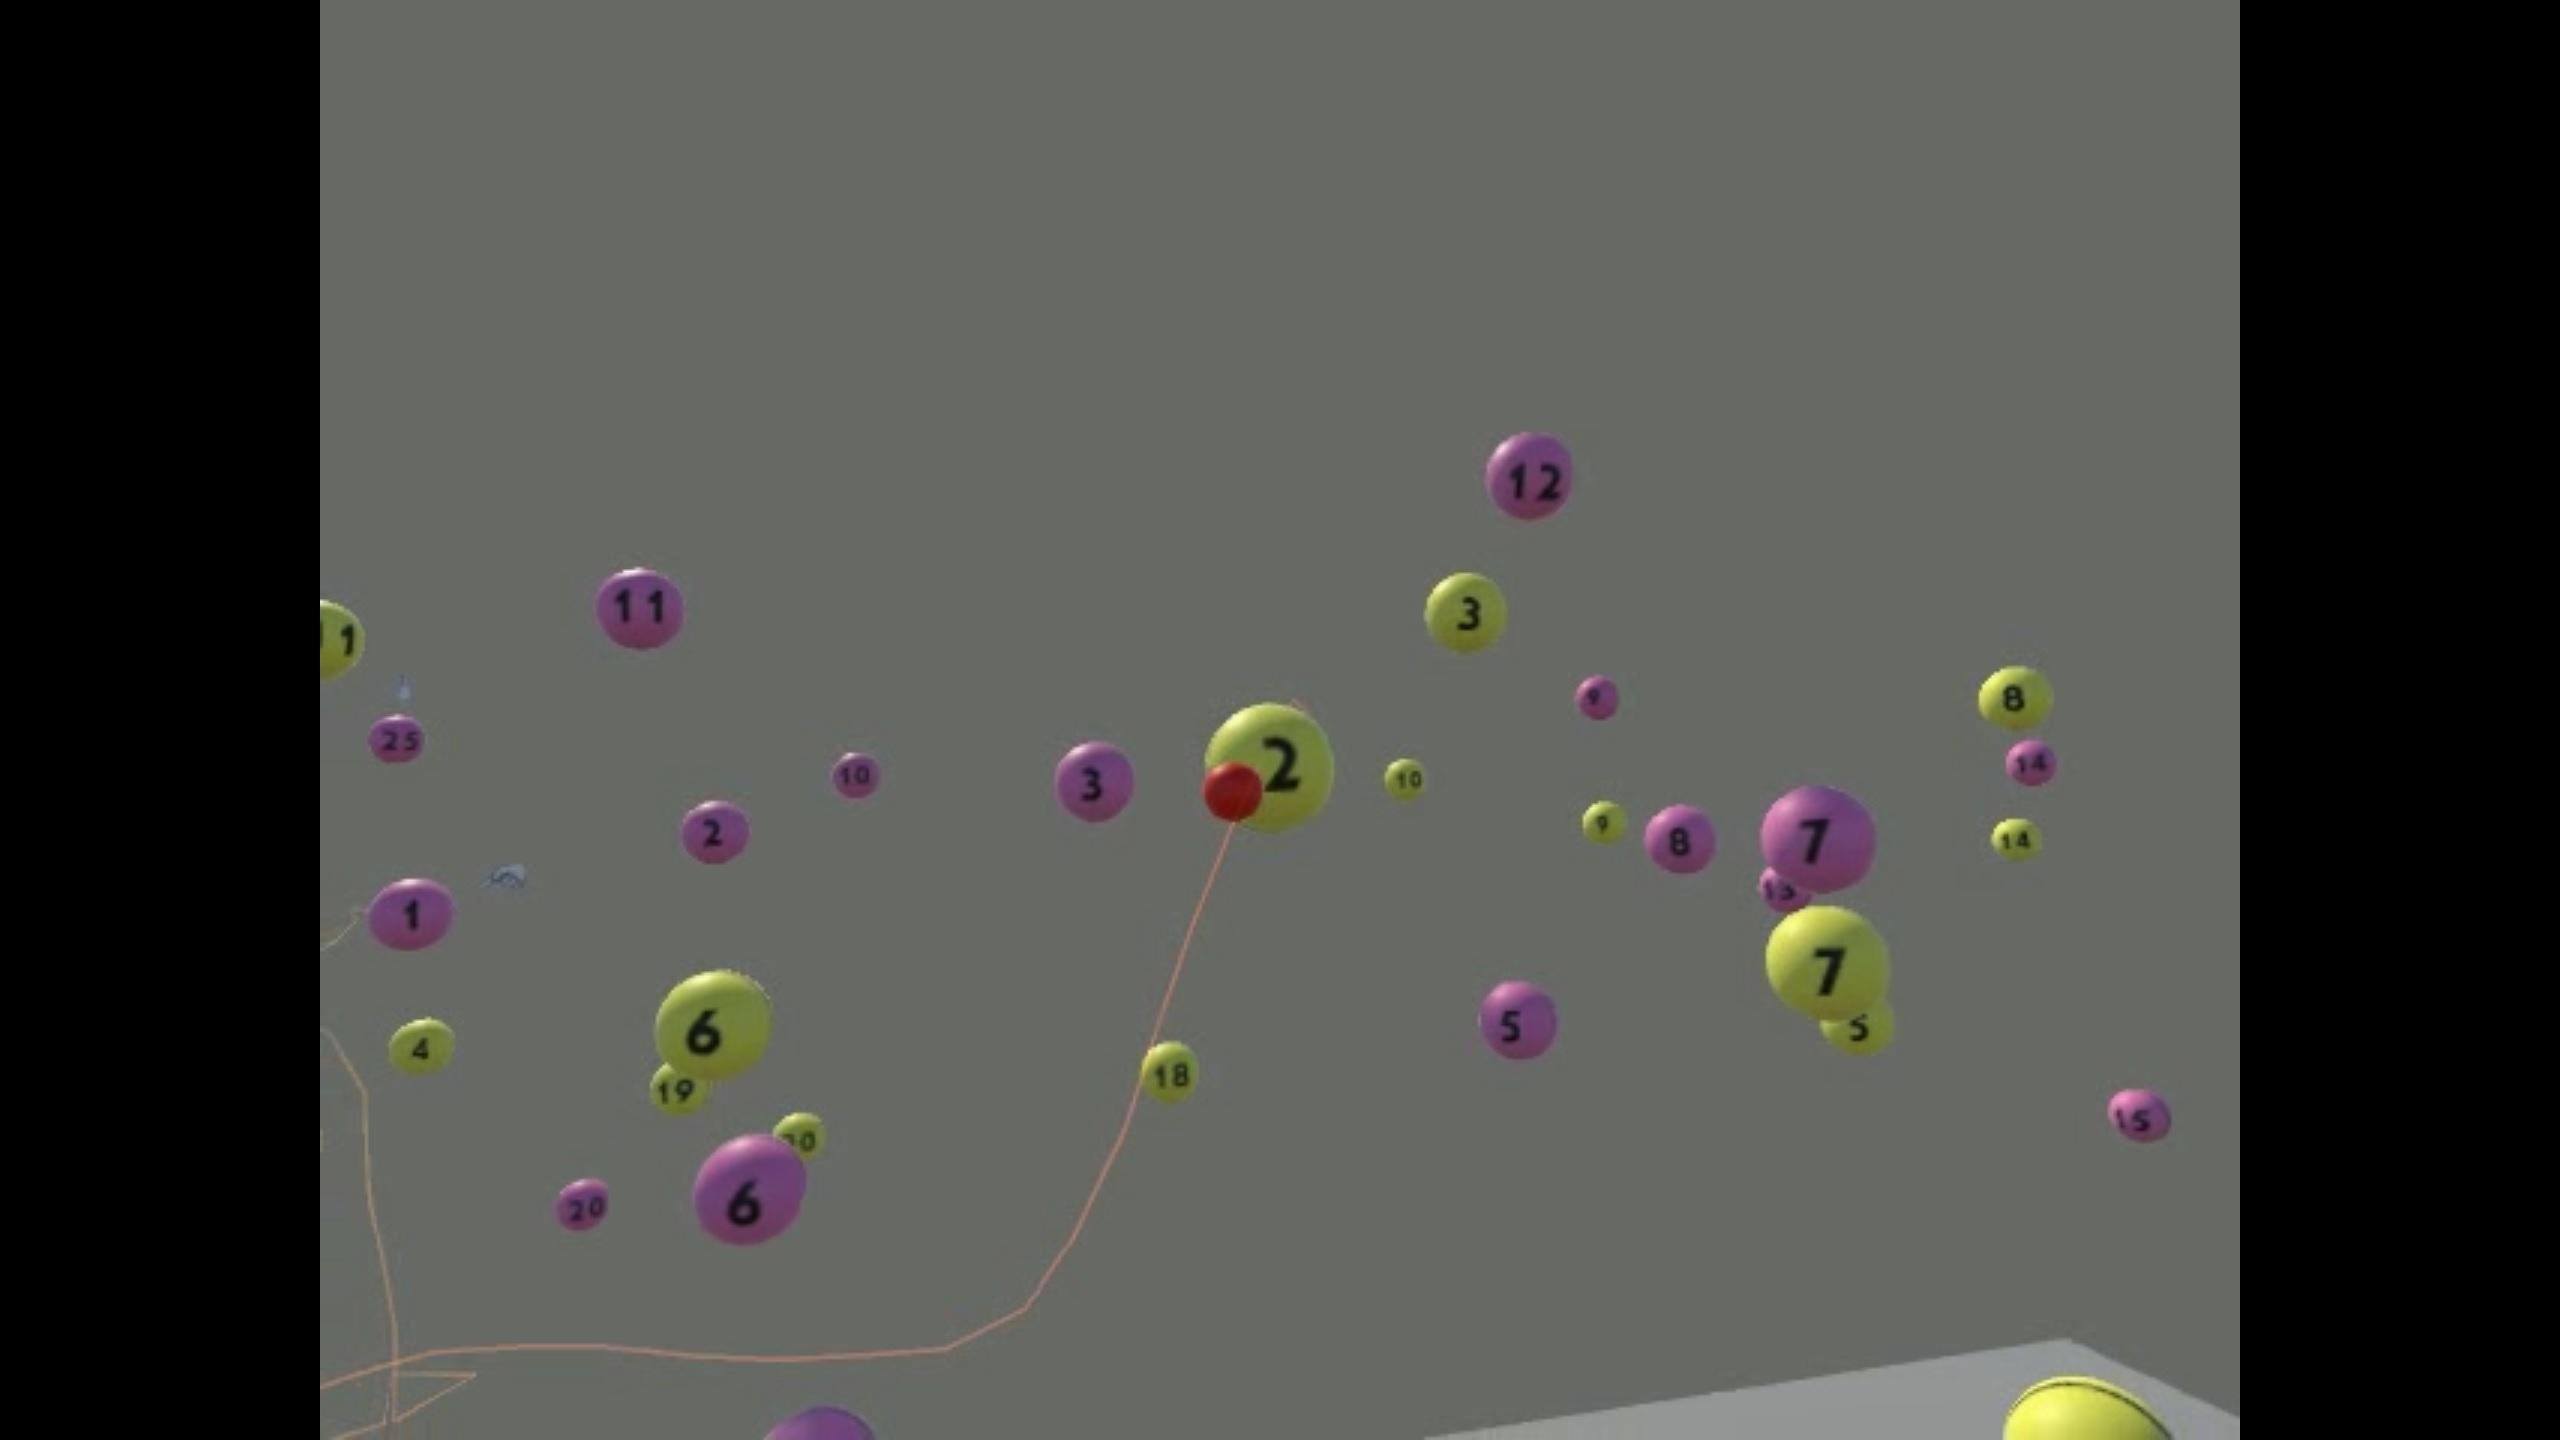ball_01_pink: (367, 881, 454, 949)
ball_02_pink: (682, 802, 747, 863)
ball_02_yellow: (1206, 703, 1336, 830)
ball_03_pink: (1055, 744, 1134, 823)
ball_03_yellow: (1426, 575, 1507, 651)
ball_04_yellow: (390, 1020, 455, 1073)
ball_05_pink: (1479, 981, 1558, 1062)
ball_06_pink: (696, 1136, 802, 1243)
ball_06_yellow: (656, 972, 770, 1078)
ball_07_pink: (1764, 788, 1873, 890)
ball_07_yellow: (1767, 905, 1887, 1020)
ball_08_pink: (1646, 805, 1714, 874)
ball_08_yellow: (1978, 663, 2054, 730)
ball_09_pink: (1575, 677, 1618, 719)
ball_09_yellow: (1584, 802, 1626, 842)
ball_10_pink: (830, 753, 879, 796)
ball_10_yellow: (1385, 758, 1426, 800)
ball_11_pink: (598, 568, 684, 647)
ball_12_pink: (1486, 433, 1574, 520)
ball_14_pink: (2006, 740, 2054, 786)
ball_14_yellow: (1990, 818, 2043, 860)
ball_15_pink: (2110, 1090, 2171, 1143)
ball_18_yellow: (1139, 1041, 1201, 1101), (652, 1067, 714, 1115)
ball_20_pink: (556, 1178, 608, 1229)
ball_25_pink: (371, 716, 424, 763)
ball_unknown: (2001, 1375, 2171, 1440), (763, 1407, 874, 1440), (322, 600, 364, 686), (1822, 1015, 1897, 1050), (1756, 865, 1807, 911), (779, 1111, 823, 1155)
user_cursor: (1204, 765, 1262, 819)
